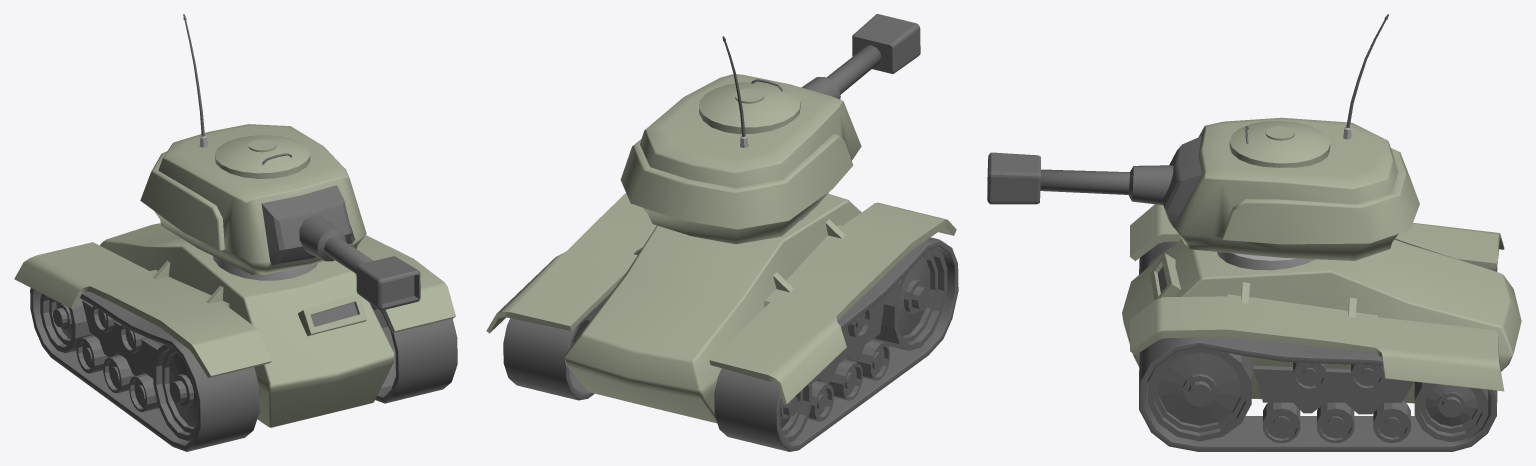
File: Tank_001_Blue.fbx
The picture shows the model from 3 angles, left to right: view 1: azimuth 30°, elevation 25°; view 2: azimuth 150°, elevation 25°; view 3: azimuth 270°, elevation 25°; orthographic projection. The views are drawn at different scales.
Parts seen in each view (by area): view 1: MainBody_GEO, polySurface7 (×2), Tank_GRP_Turret_GRP_Turret_Head_GEO_polySurface12, polySurface9 (×2), Tracks_GRP_pCylinder4 (×2), Gun_GEO, polySurface13, Hatch_GEO, polySurface11, Turret_Pivot_GEO, Antennae_GEO; view 2: MainBody_GEO, polySurface7 (×2), Tank_GRP_Turret_GRP_Turret_Head_GEO_polySurface12, polySurface9 (×2), Tracks_GRP_pCylinder4, Gun_GEO, Hatch_GEO, polySurface11; view 3: Tank_GRP_Turret_GRP_Turret_Head_GEO_polySurface12, polySurface7 (×2), MainBody_GEO, Tracks_GRP_pCylinder4, polySurface9, Gun_GEO, polySurface11, Hatch_GEO, polySurface13, Turret_Pivot_GEO.
Boxes of the visible parts, x1,y1,x2,y2 form: MainBody_GEO: (100, 223, 394, 427); polySurface7 (×2): (14, 235, 455, 377); Tank_GRP_Turret_GRP_Turret_Head_GEO_polySurface12: (140, 124, 366, 274); polySurface9 (×2): (30, 288, 457, 451); Tracks_GRP_pCylinder4 (×2): (40, 293, 395, 441); Gun_GEO: (299, 215, 420, 310); polySurface13: (261, 185, 351, 265); Hatch_GEO: (215, 135, 310, 178); polySurface11: (82, 300, 160, 378); Turret_Pivot_GEO: (213, 256, 317, 280); Antennae_GEO: (183, 14, 207, 147); MainBody_GEO: (564, 193, 861, 423); polySurface7 (×2): (486, 193, 956, 404); Tank_GRP_Turret_GRP_Turret_Head_GEO_polySurface12: (620, 74, 861, 244); polySurface9 (×2): (503, 237, 958, 451); Tracks_GRP_pCylinder4: (780, 247, 947, 442); Gun_GEO: (801, 14, 920, 99); Hatch_GEO: (699, 79, 800, 134); polySurface11: (811, 296, 885, 383); Tank_GRP_Turret_GRP_Turret_Head_GEO_polySurface12: (1174, 117, 1419, 260); polySurface7 (×2): (1130, 204, 1504, 391); MainBody_GEO: (1122, 238, 1521, 403); Tracks_GRP_pCylinder4: (1148, 348, 1488, 442); polySurface9: (1139, 337, 1497, 451); Gun_GEO: (987, 152, 1173, 205); polySurface11: (1253, 365, 1414, 414); Hatch_GEO: (1229, 121, 1330, 167); polySurface13: (1162, 136, 1201, 227); Turret_Pivot_GEO: (1217, 252, 1315, 270).
Bounding box in the file's own units: 5.13 × 5.93 × 8.01.
